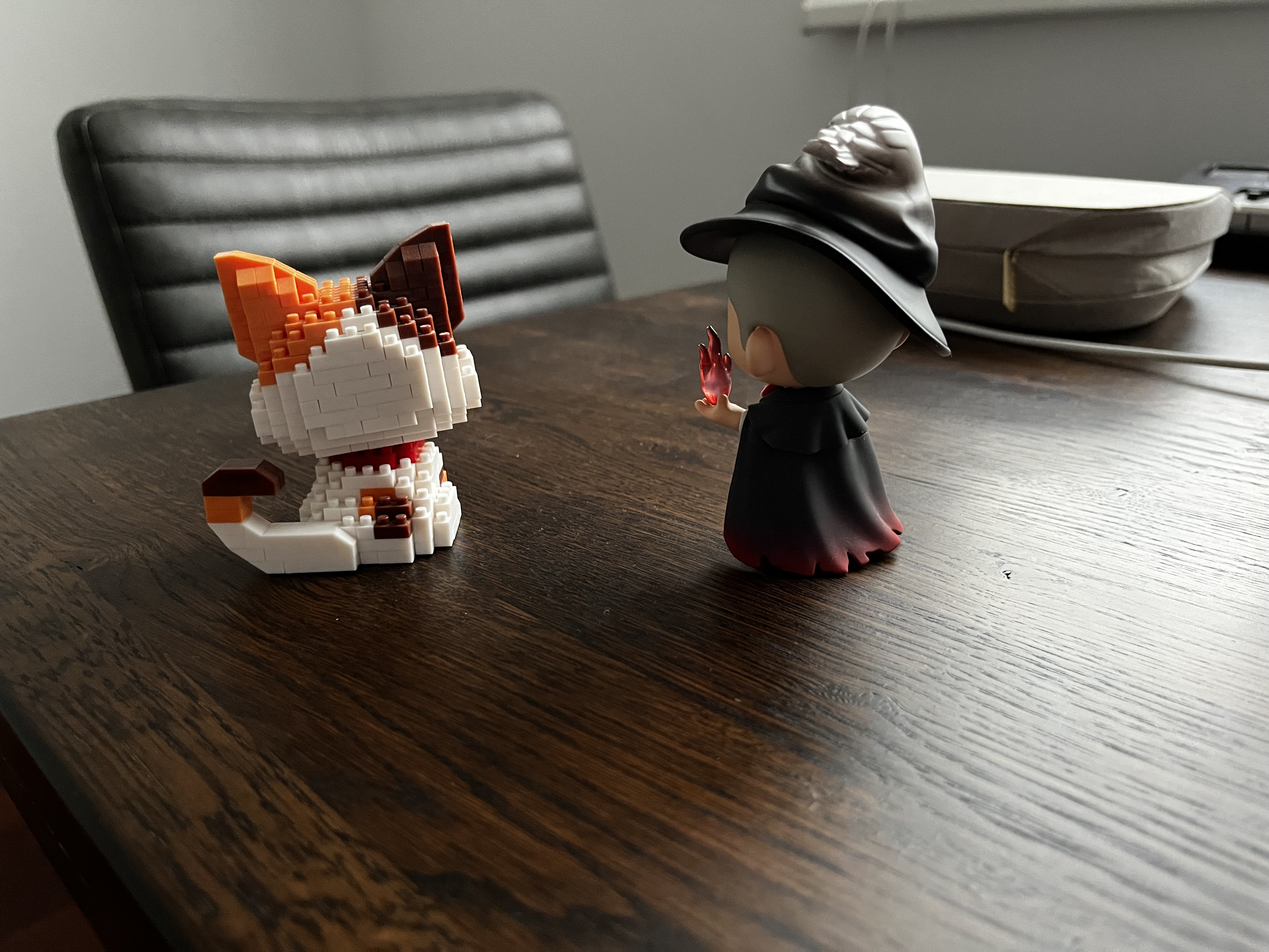cat: (192, 217, 484, 600)
magician: (668, 91, 963, 589)
